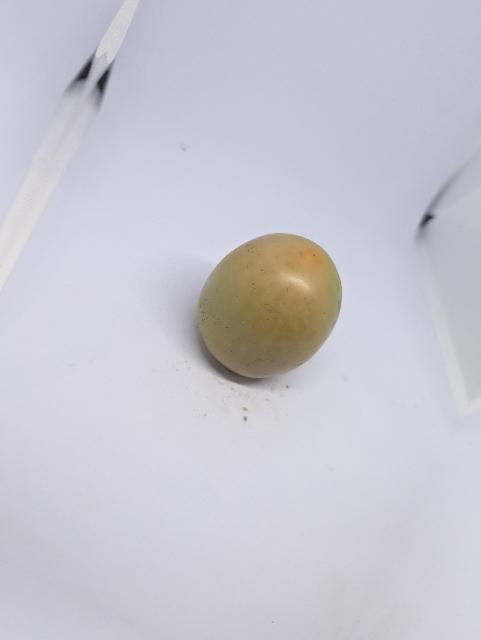breaker: (198, 234, 342, 378)
